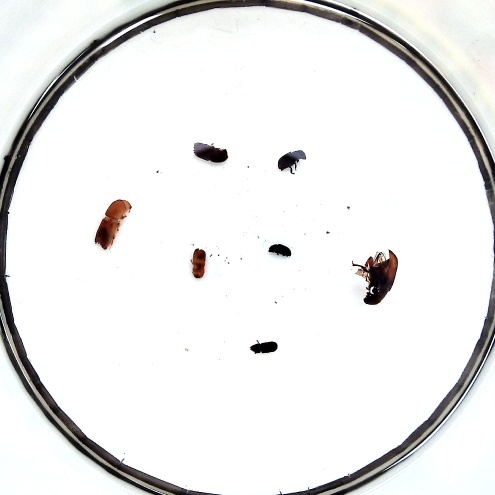acuminatus: (190, 248, 206, 278)
armandi: (277, 151, 307, 174)
boerner: (97, 199, 129, 250)
coleoptera: (268, 243, 292, 259), (253, 343, 277, 354)
leconte: (354, 249, 399, 308)
linnaeus: (193, 140, 228, 162)
